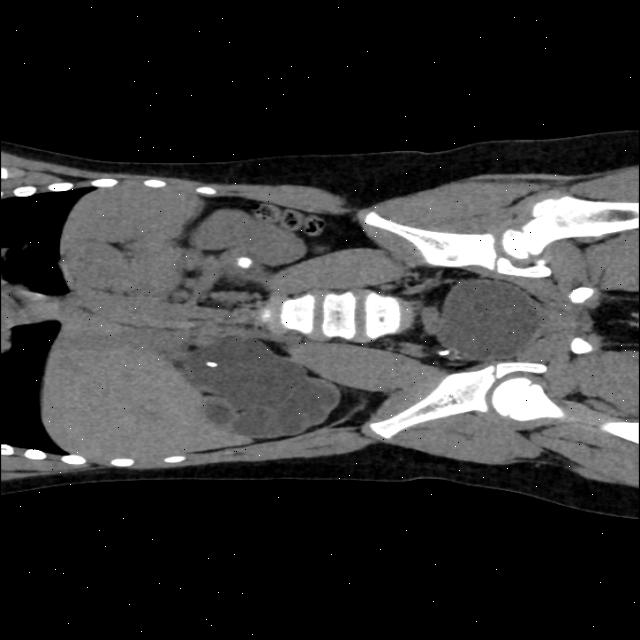kidneystone: (237, 255, 251, 268)
